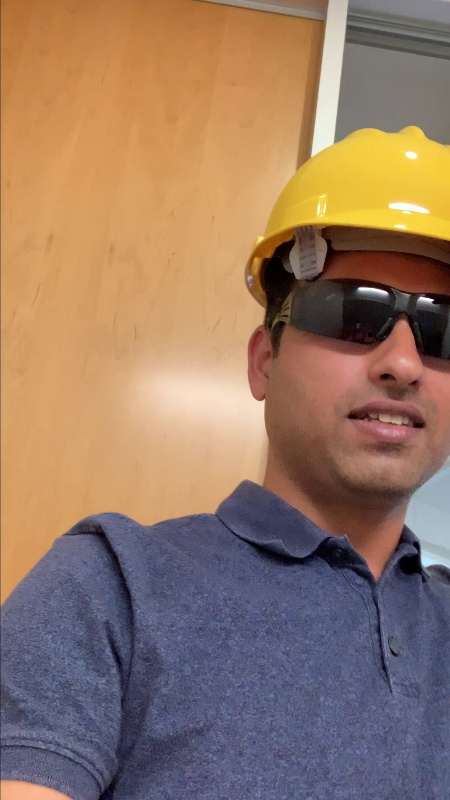glasses: (252, 273, 450, 368)
helmet: (233, 118, 450, 269)
